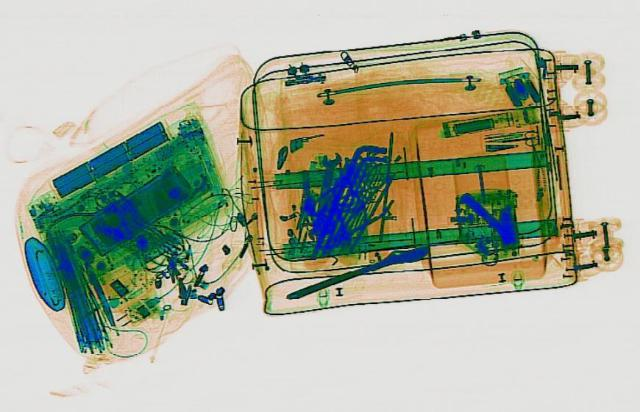Pliers: (308, 186, 396, 248)
Wrench: (276, 238, 438, 304), (308, 149, 342, 211)
